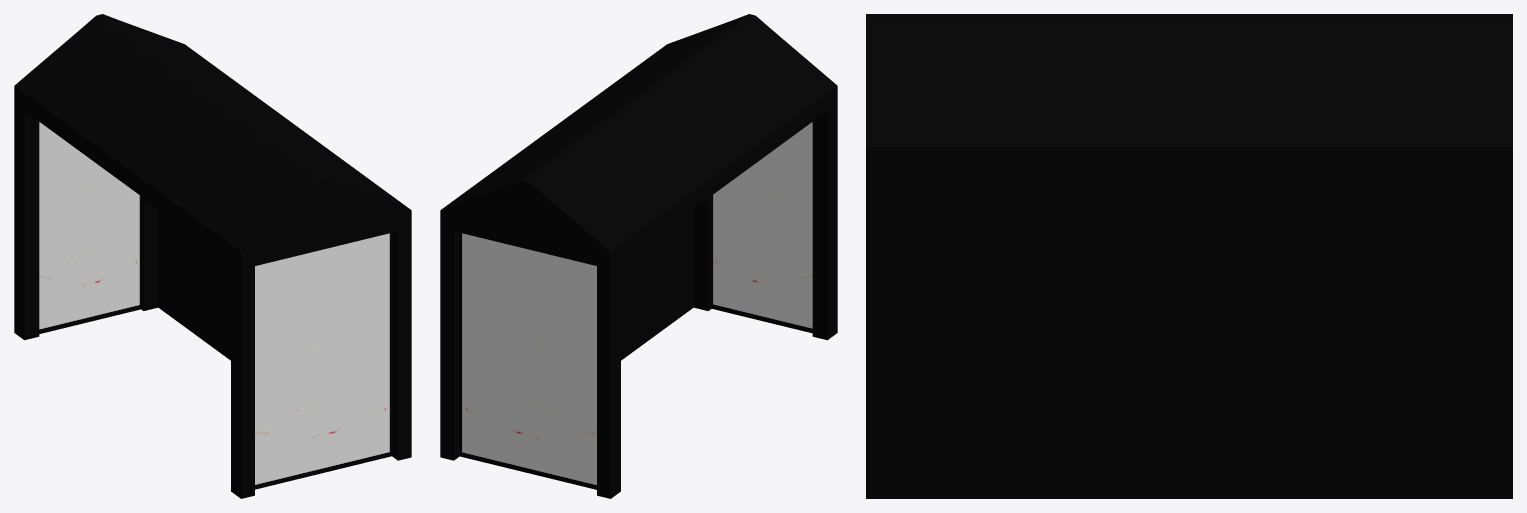
The model's file is bus stop.FBX.
3 views of the same model, side by side, from view 1: azimuth 30°, elevation 25°; view 2: azimuth 150°, elevation 25°; view 3: azimuth 270°, elevation 25° (orthographic). The views are drawn at different scales.
Parts seen in each view (by area): view 1: Box001; view 2: Box001; view 3: Box001.
Boxes of the visible parts, box(x1,y1,x2,y2) form: Box001: box(14, 14, 411, 498); Box001: box(440, 14, 837, 498); Box001: box(866, 14, 1512, 498).
Bounding box in the file's own units: 51.62 × 86.03 × 119.
